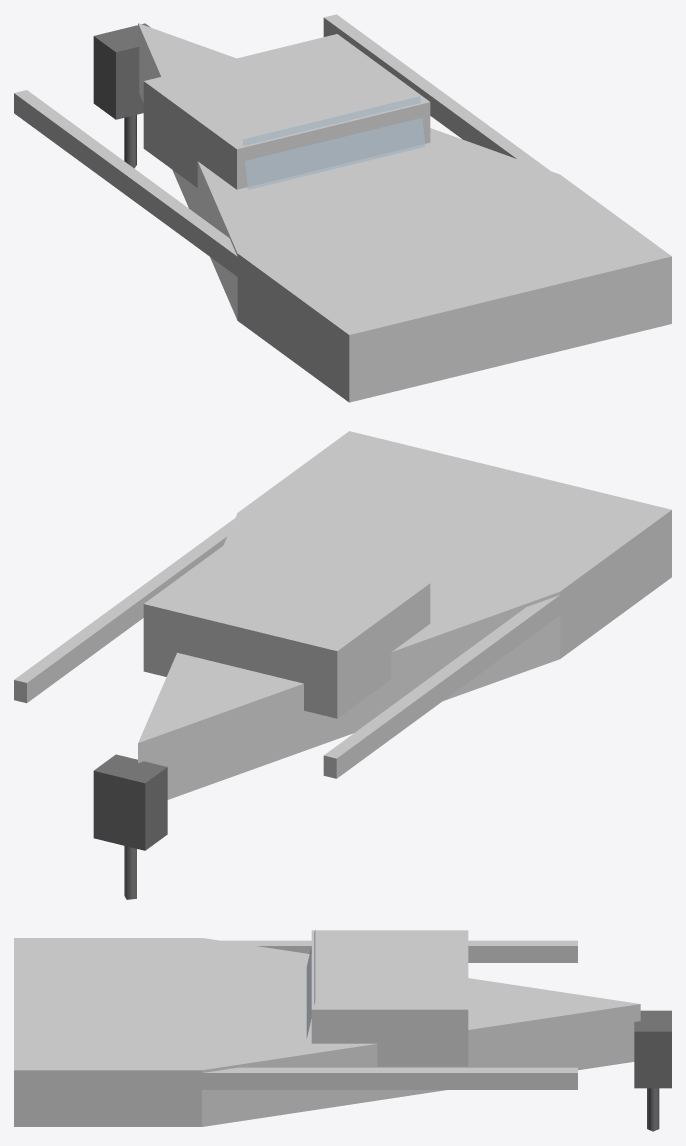
File: boat.glb
The picture shows the model from 3 angles, top to bottom: view 1: azimuth 30°, elevation 25°; view 2: azimuth 150°, elevation 25°; view 3: azimuth 270°, elevation 25°; orthographic projection. The views are drawn at different scales.
Visible parts, largest first — view 1: boat; view 2: boat; view 3: boat.
Part boxes in pixels (<box>): boat: <box>14,14,671,402</box>; boat: <box>14,431,671,899</box>; boat: <box>14,929,671,1131</box>.
Size of the model in its own units: 2.5 by 1.45 by 5.25.
